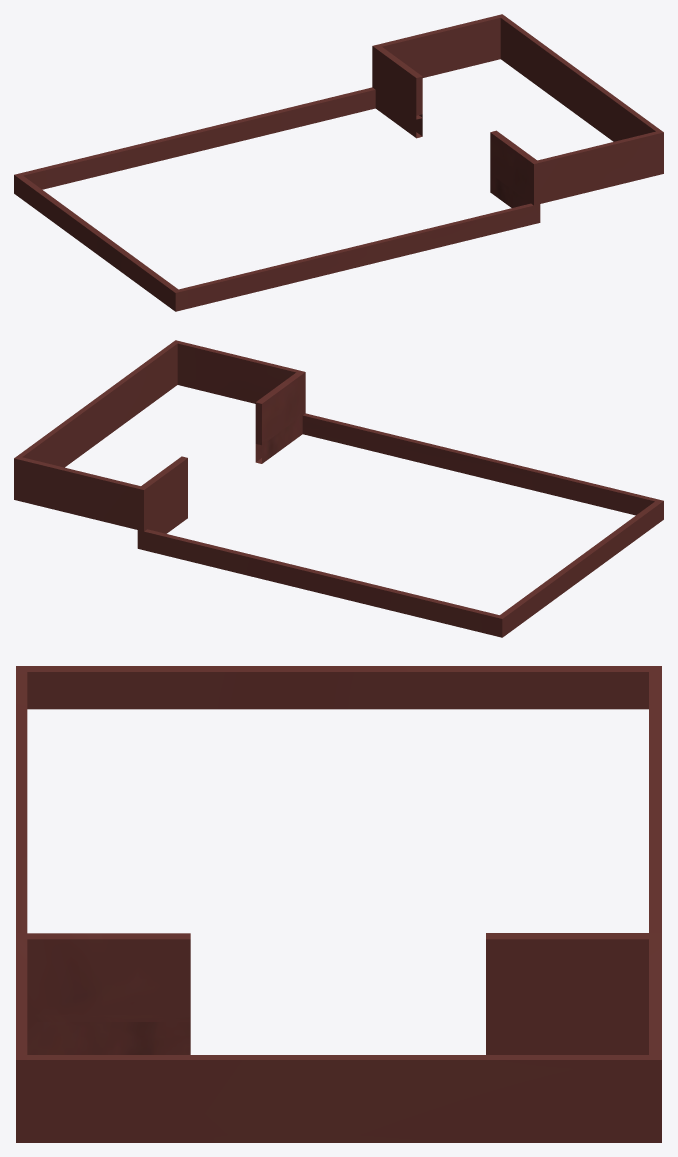
File: IRGLMLindsayRampAroundWalls.fbx
The picture shows the model from 3 angles, top to bottom: view 1: azimuth 30°, elevation 25°; view 2: azimuth 150°, elevation 25°; view 3: azimuth 270°, elevation 25°; orthographic projection. The views are drawn at different scales.
Parts seen in each view (by area): view 1: RedWalls; view 2: RedWalls; view 3: RedWalls.
Boxes of the visible parts, <box> form: RedWalls: <box>14,14,663,311</box>; RedWalls: <box>14,340,663,637</box>; RedWalls: <box>16,666,661,1142</box>.
Size of the model in its own units: 1382 by 163 by 792.
